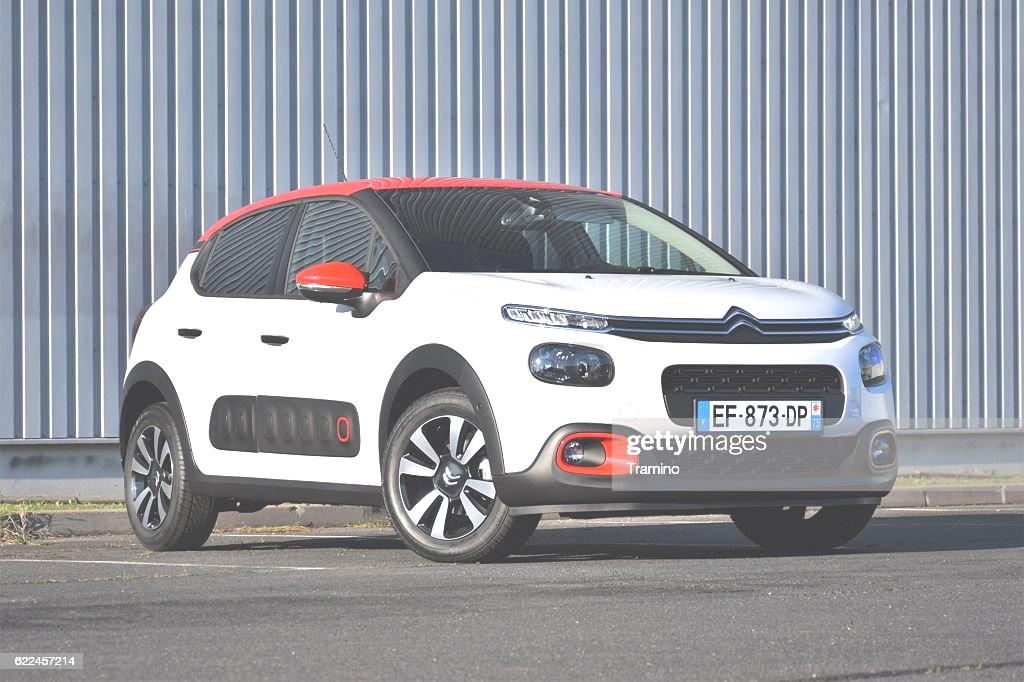Citroen: (714, 297, 768, 349)
